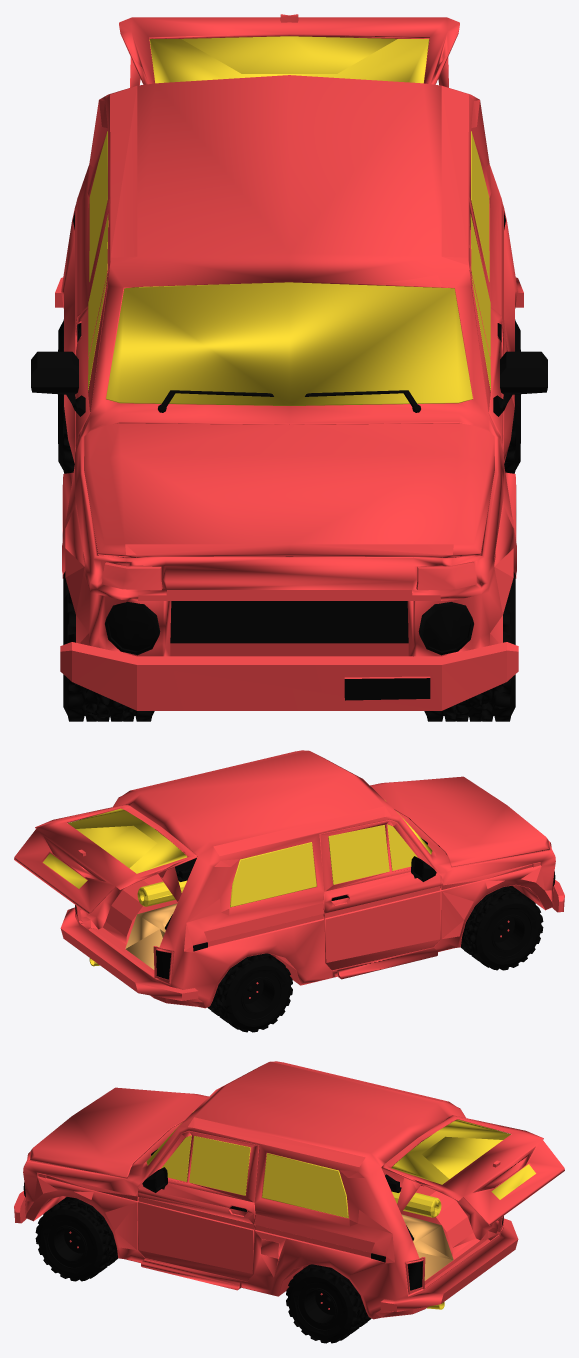
The model's file is Toy201.fbx.
3 renders of one model, top to bottom at view 1: azimuth 30°, elevation 25°; view 2: azimuth 150°, elevation 25°; view 3: azimuth 270°, elevation 25°, orthographic. The views are drawn at different scales.
Parts seen in each view (by area): view 1: Toy201; view 2: Toy201; view 3: Toy201.
Part boxes in pixels (x1,y1,x2,y2): Toy201: (31, 14, 547, 721); Toy201: (14, 750, 564, 1032); Toy201: (14, 1061, 564, 1343).
Size of the model in its own units: 0.1661 by 0.0782 by 0.2144.
